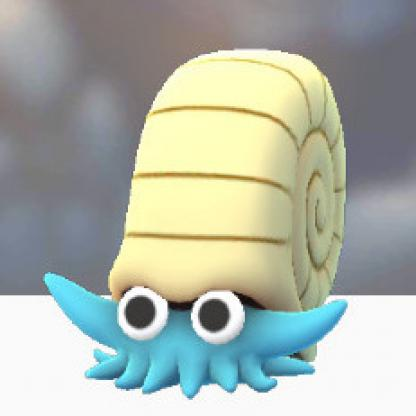Omanyte: (47, 43, 365, 395)
